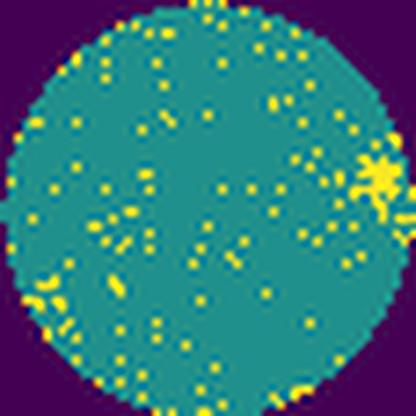Edge-Loc: (346, 154, 402, 223)
